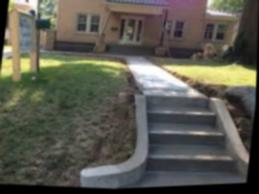Bench: (128, 89, 237, 182)
